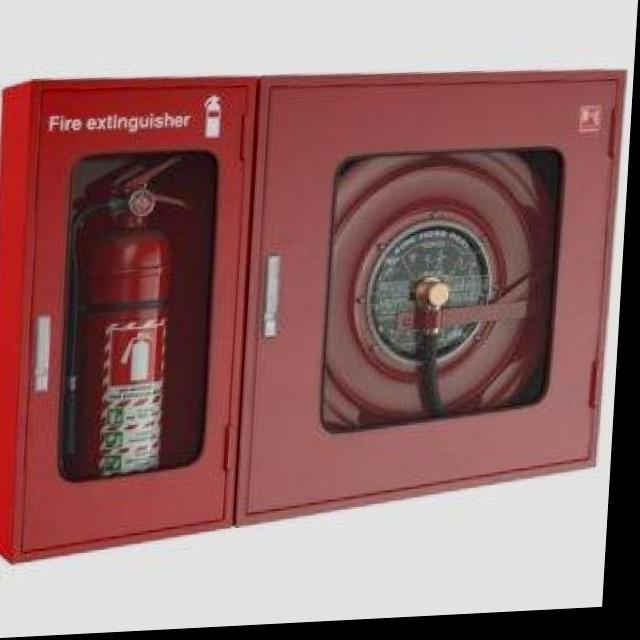FireExtinguisher: (41, 135, 216, 551)
